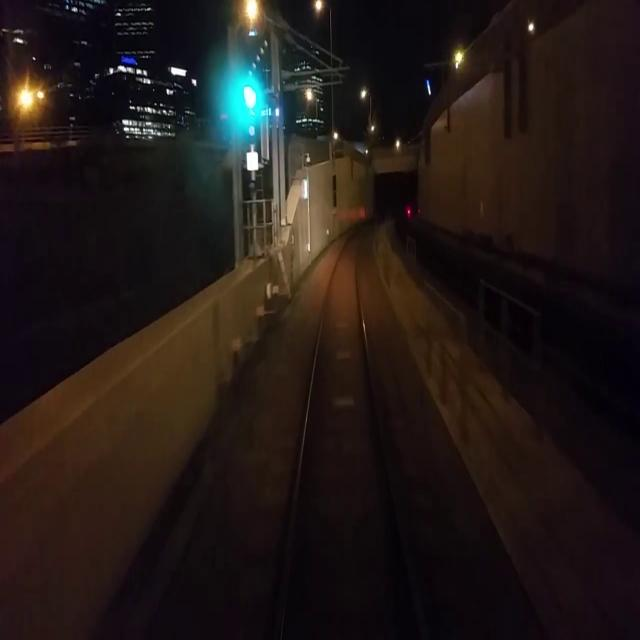rail-track: (287, 229, 408, 575)
